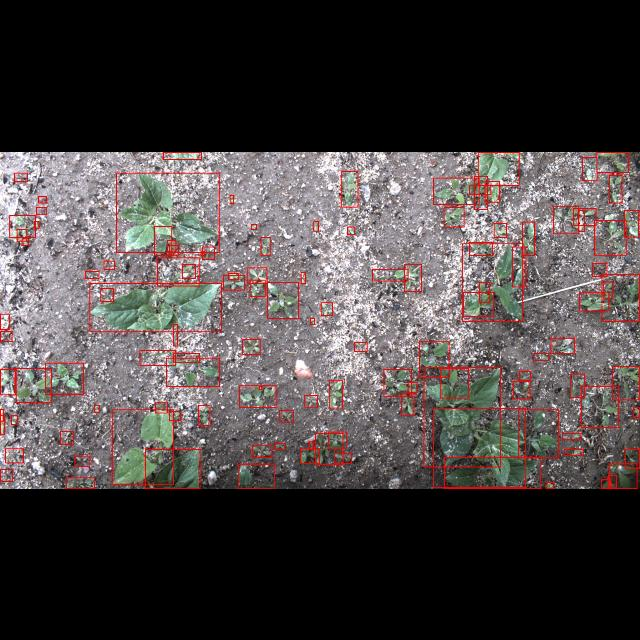crop: (116, 172, 220, 252), (424, 367, 501, 467), (434, 408, 526, 488), (89, 282, 221, 332), (112, 410, 174, 484), (445, 458, 541, 488), (146, 448, 200, 488), (478, 152, 518, 184), (464, 291, 494, 315), (484, 181, 500, 201), (163, 152, 201, 158)
weed: (462, 243, 522, 321), (518, 409, 558, 457), (602, 274, 640, 320), (167, 358, 220, 387), (582, 385, 618, 427), (16, 368, 52, 402), (433, 177, 479, 203), (46, 362, 84, 393), (157, 257, 199, 285), (594, 220, 626, 254), (268, 282, 298, 318), (419, 341, 449, 377), (612, 366, 640, 400), (238, 464, 274, 488), (315, 434, 343, 464), (441, 368, 469, 398), (240, 385, 276, 407), (384, 368, 412, 396), (554, 205, 578, 233), (340, 170, 358, 206), (596, 151, 628, 171), (610, 464, 636, 488), (10, 215, 36, 237), (512, 246, 526, 286), (154, 225, 172, 255), (140, 350, 176, 364), (404, 263, 422, 291), (580, 292, 608, 310), (474, 175, 488, 209), (372, 268, 408, 280), (522, 221, 534, 255), (444, 206, 464, 226), (608, 174, 622, 202), (1, 369, 16, 395), (551, 337, 575, 353), (624, 210, 638, 237), (574, 208, 596, 225), (223, 274, 244, 290), (330, 380, 342, 408), (582, 156, 596, 180), (570, 373, 584, 397), (512, 381, 530, 399), (300, 448, 320, 464), (328, 432, 347, 448), (242, 338, 260, 354), (66, 478, 94, 488), (625, 448, 639, 468), (402, 393, 414, 415), (470, 242, 492, 254), (173, 352, 199, 362), (5, 449, 23, 463), (248, 268, 266, 282), (198, 405, 210, 425), (252, 445, 272, 457), (250, 280, 264, 296), (592, 262, 608, 276), (480, 281, 490, 301), (182, 264, 196, 278), (494, 222, 506, 238), (334, 453, 352, 463), (260, 236, 270, 254), (470, 184, 490, 193), (60, 432, 74, 444), (100, 288, 114, 300), (279, 410, 293, 422), (304, 395, 318, 407), (74, 456, 90, 466), (1, 469, 13, 481), (202, 246, 214, 258), (321, 302, 333, 314), (562, 432, 580, 440), (0, 314, 10, 328), (354, 341, 368, 351), (604, 282, 612, 298), (16, 228, 26, 240), (0, 331, 12, 341), (155, 402, 167, 412), (578, 210, 584, 230), (564, 449, 584, 455), (85, 270, 99, 278), (534, 352, 548, 360), (15, 172, 28, 180), (520, 370, 530, 380), (608, 475, 616, 487), (170, 412, 180, 421), (408, 382, 417, 392), (601, 479, 611, 488), (104, 260, 115, 268), (173, 323, 177, 345), (36, 206, 46, 214), (228, 272, 238, 280), (168, 240, 176, 250), (170, 244, 178, 254), (0, 416, 4, 434), (275, 443, 285, 449), (300, 272, 306, 282), (633, 407, 639, 417), (38, 195, 46, 202), (11, 416, 17, 424), (94, 404, 100, 412), (348, 226, 354, 234), (546, 482, 554, 488), (22, 238, 28, 245), (309, 440, 313, 450), (314, 220, 318, 230), (1, 409, 4, 421), (34, 220, 38, 228), (230, 194, 234, 202), (310, 318, 314, 324), (200, 250, 203, 256), (252, 224, 256, 228), (259, 386, 261, 388)
